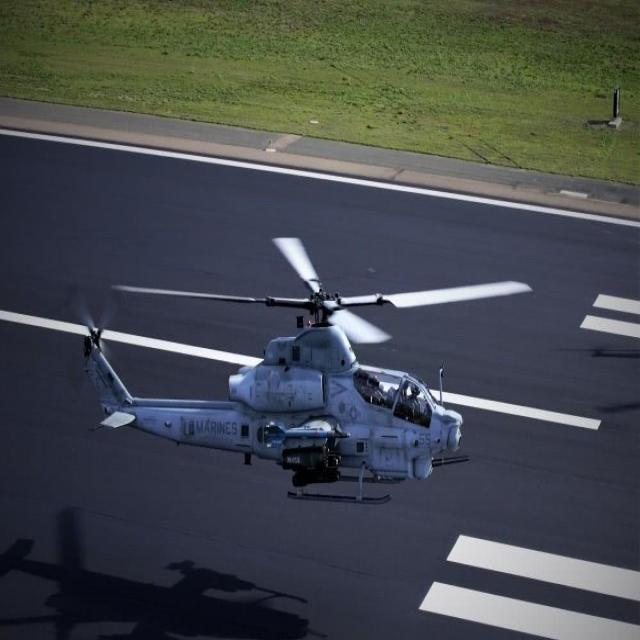MIL_HELO: (52, 215, 540, 505)
